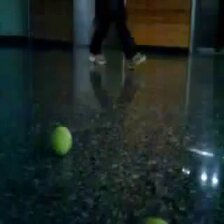tennis: (50, 126, 72, 156)
